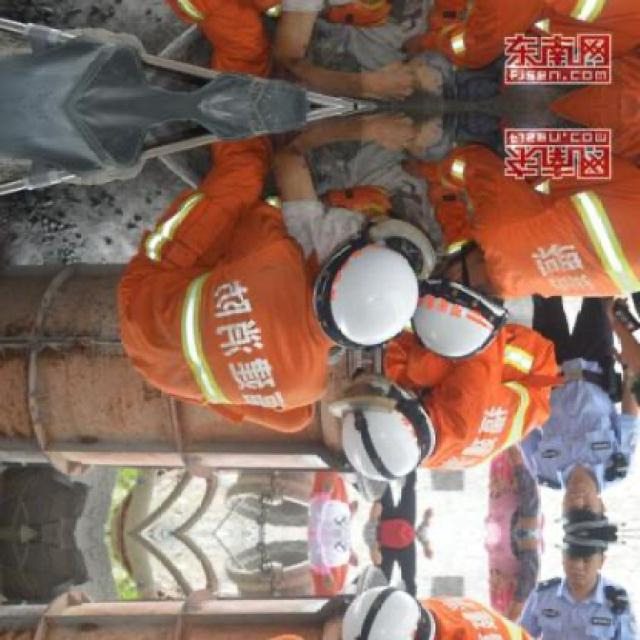con casco: (237, 239, 411, 371), (310, 359, 446, 491), (424, 213, 528, 356)
